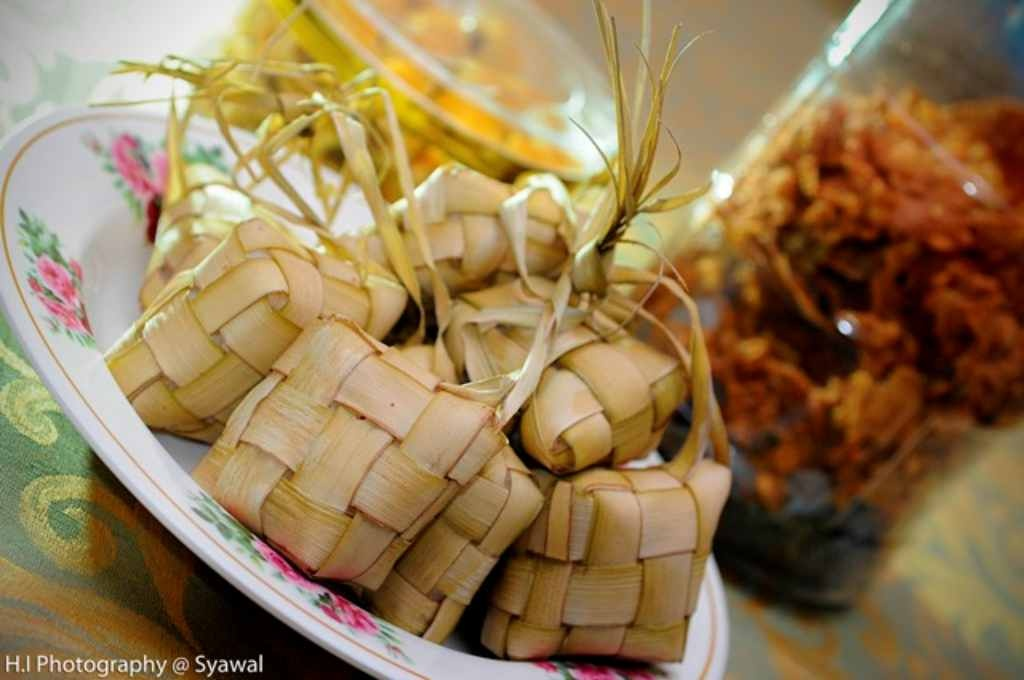ketupat: (190, 314, 511, 588), (477, 461, 735, 666)
